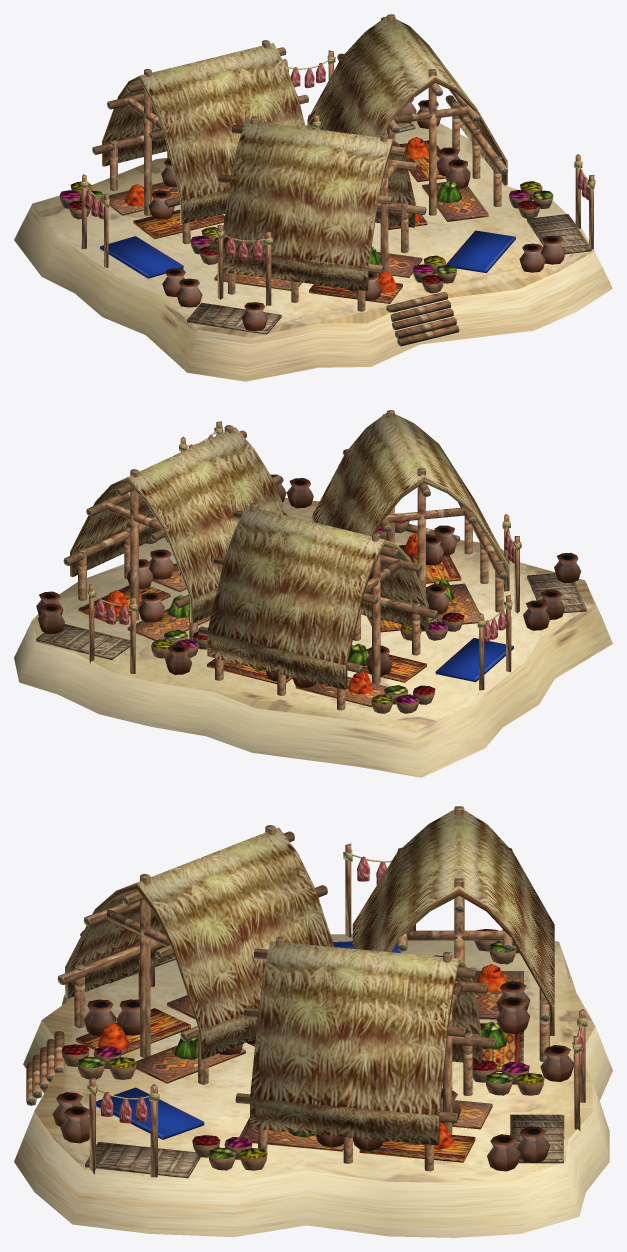
The model's file is market.dae.
The picture shows the model from 3 angles, top to bottom: view 1: azimuth 30°, elevation 25°; view 2: azimuth 150°, elevation 25°; view 3: azimuth 270°, elevation 25°; orthographic projection. The views are drawn at different scales.
Visible parts, largest first — view 1: market; view 2: market; view 3: market.
Part boxes in pixels (x1,y1,x2,y2): market: [14, 14, 612, 381]; market: [14, 410, 612, 777]; market: [14, 806, 612, 1237].
Bounding box in the file's own units: 25.42 × 24.01 × 10.02.
